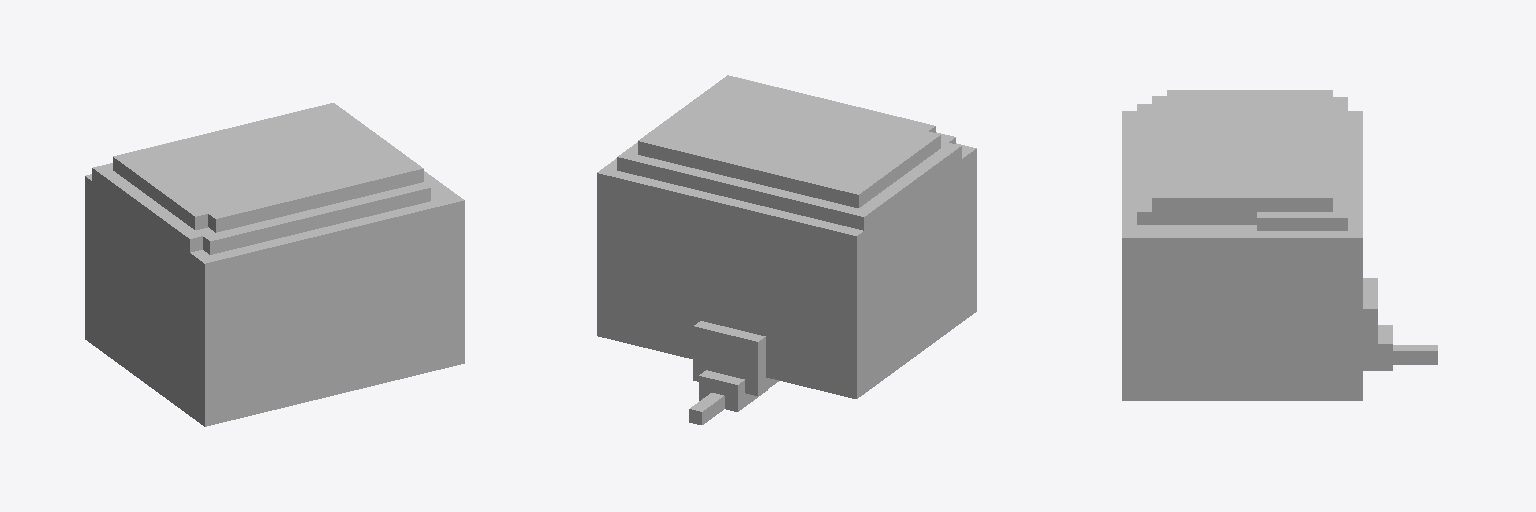
File: GGJ zombie brain.obj
3 renders of one model, left to right at view 1: azimuth 30°, elevation 25°; view 2: azimuth 150°, elevation 25°; view 3: azimuth 270°, elevation 25°, orthographic.
Parts seen in each view (by area): view 1: object 1; view 2: object 1; view 3: object 1.
Part boxes in pixels (left/top/right/bottom): object 1: left=85, top=103, right=464, bottom=426; object 1: left=597, top=75, right=976, bottom=424; object 1: left=1122, top=90, right=1437, bottom=400.
Bounding box in the file's own units: 2 × 1.6 × 2.1.